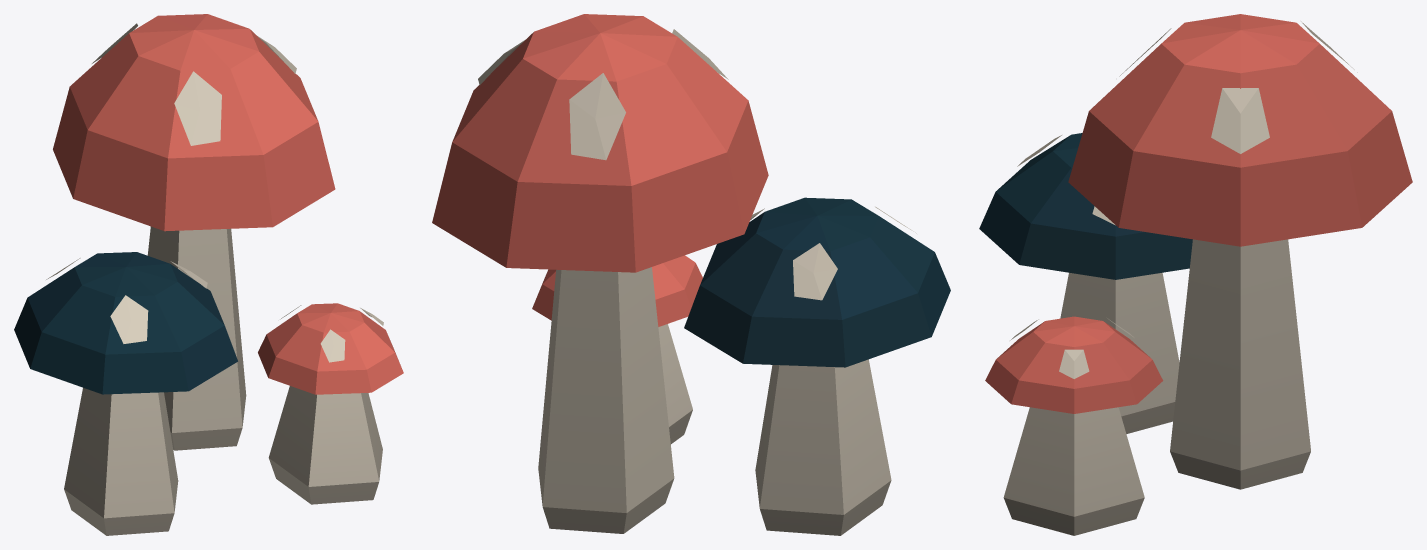
File: mushroom-group.glb
3 views of the same model, side by side, from view 1: azimuth 30°, elevation 25°; view 2: azimuth 150°, elevation 25°; view 3: azimuth 270°, elevation 25° (orthographic). The views are drawn at different scales.
Visible parts, largest first — view 1: bob_mesh, root_mesh; view 2: bob_mesh, root_mesh; view 3: bob_mesh, root_mesh.
Part boxes in pixels (<box>): bob_mesh: <box>14,14,403,394</box>; root_mesh: <box>64,226,382,535</box>; bob_mesh: <box>432,14,950,367</box>; root_mesh: <box>538,267,891,535</box>; bob_mesh: <box>979,14,1412,413</box>; root_mesh: <box>1003,239,1310,535</box>.
Size of the model in its own units: 0.7 by 0.8 by 0.7.
